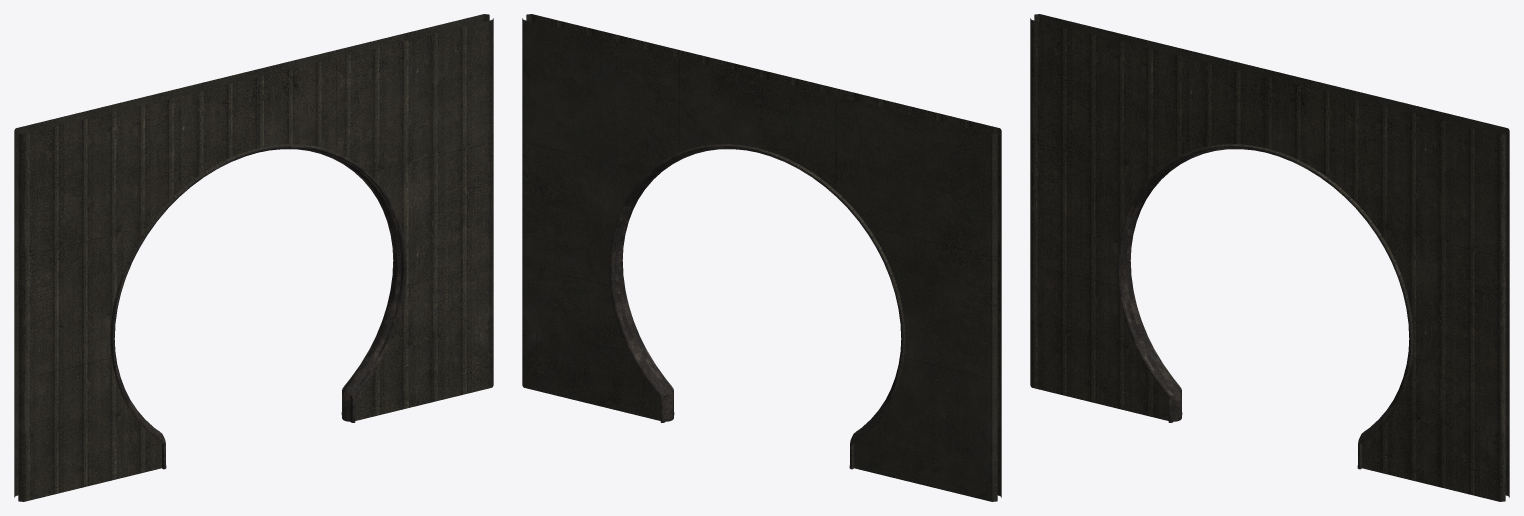
Rendered from wall_1_tunnel_hole.glb.
3 renders of one model, left to right at view 1: azimuth 30°, elevation 25°; view 2: azimuth 150°, elevation 25°; view 3: azimuth 330°, elevation 25°, orthographic.
Parts seen in each view (by area): view 1: wall_1_tunnel_hole; view 2: wall_1_tunnel_hole; view 3: wall_1_tunnel_hole.
Boxes of the visible parts, x1,y1,x2,y2 form: wall_1_tunnel_hole: [14, 14, 493, 501]; wall_1_tunnel_hole: [522, 14, 1001, 501]; wall_1_tunnel_hole: [1030, 14, 1509, 501].
Size of the model in its own units: 4.06 by 3 by 0.1728.
Materials: 3 (3 with a texture image).
